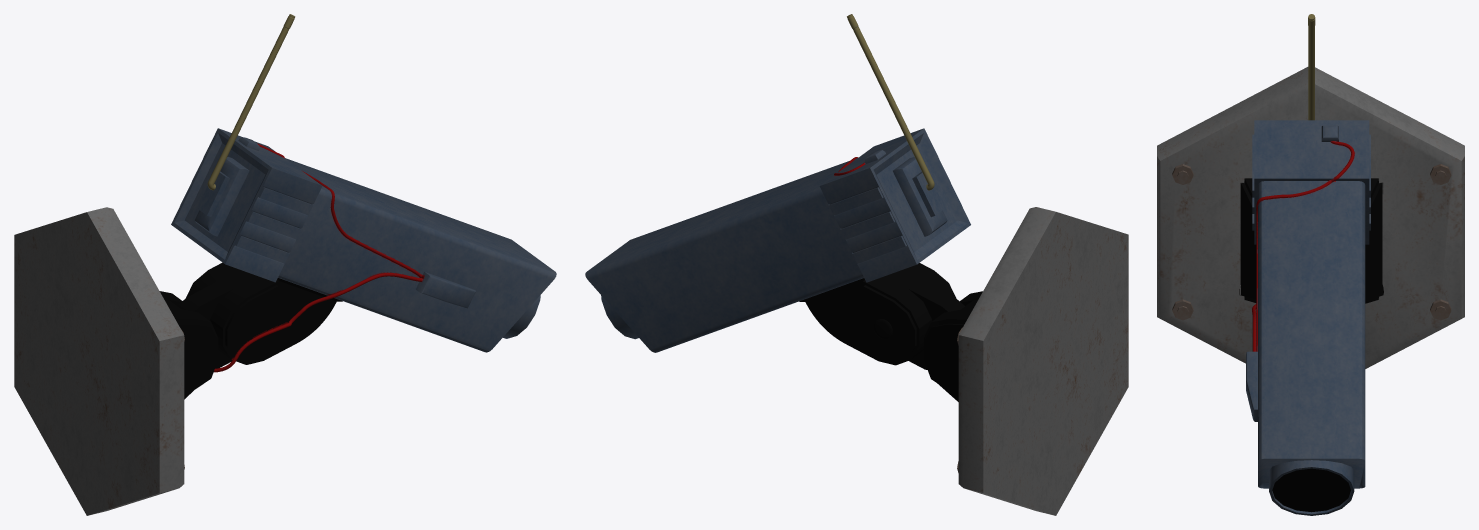
Rendered from camera_2.fbx.
3 renders of one model, left to right at view 1: azimuth 30°, elevation 25°; view 2: azimuth 150°, elevation 25°; view 3: azimuth 270°, elevation 25°, orthographic. The views are drawn at different scales.
Parts seen in each view (by area): view 1: bake; view 2: bake; view 3: bake.
Part boxes in pixels (x1,y1,x2,y2): bake: (14, 14, 556, 515); bake: (585, 14, 1128, 515); bake: (1157, 14, 1464, 515).
Size of the model in its own units: 308 by 297 by 173.
1 material, 1 textured.
